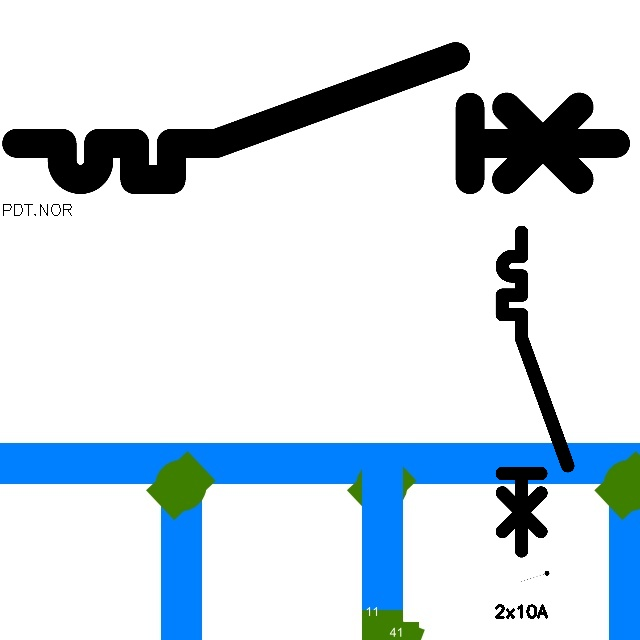interruptor_termomagnetico: (1, 41, 630, 195), (494, 224, 576, 559)
